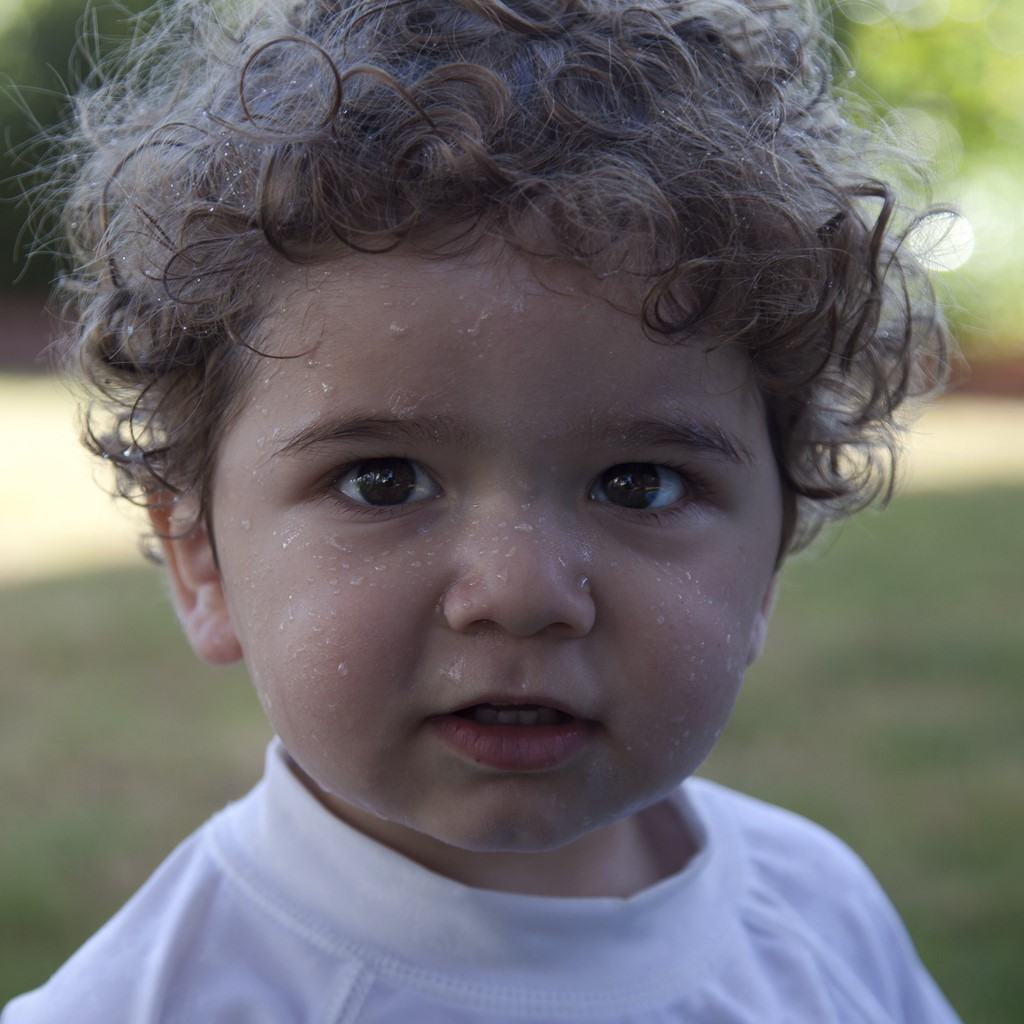sin_mascara: (187, 59, 779, 854)
